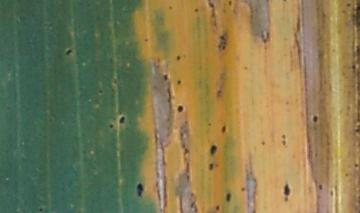tarspot: (208, 143, 219, 157), (135, 182, 144, 198), (117, 114, 128, 126), (63, 46, 74, 57), (224, 190, 232, 204), (175, 104, 185, 115), (283, 183, 290, 197), (221, 121, 227, 134), (143, 35, 150, 44), (208, 162, 214, 172), (108, 122, 115, 130), (167, 4, 174, 11), (111, 79, 118, 86), (312, 116, 318, 124), (260, 139, 266, 147), (240, 185, 246, 193), (175, 54, 181, 62), (163, 74, 169, 82), (214, 204, 220, 211), (98, 88, 104, 95), (318, 183, 323, 191), (176, 80, 182, 86), (282, 140, 287, 147), (194, 7, 199, 14), (283, 197, 289, 202), (243, 65, 248, 71), (281, 134, 285, 140)
